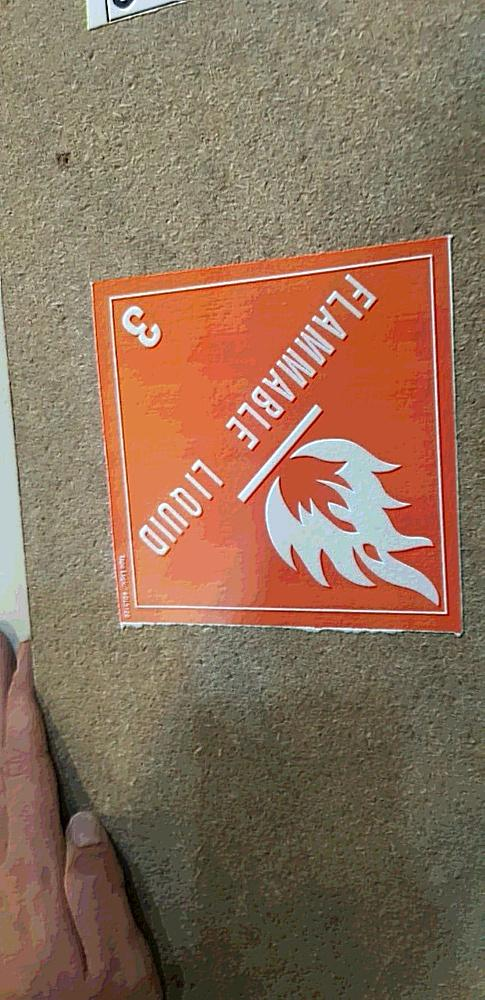flammable: (103, 258, 450, 631)
